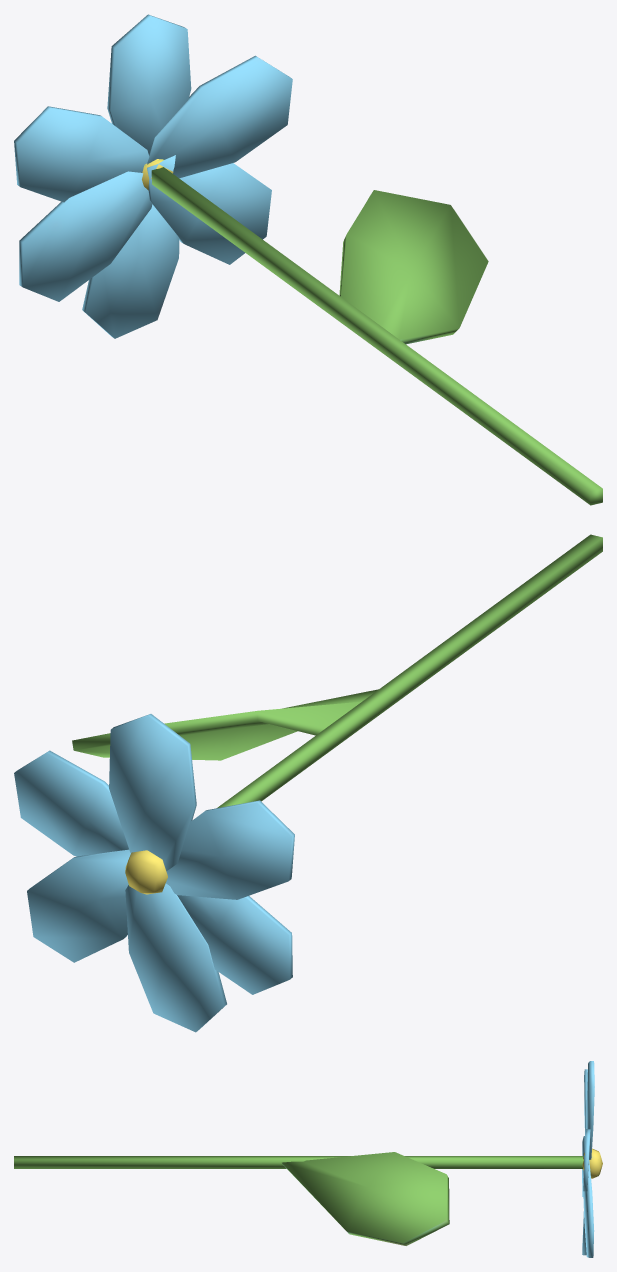
Rendered from flowerblue.fbx.
3 renders of one model, top to bottom at view 1: azimuth 30°, elevation 25°; view 2: azimuth 150°, elevation 25°; view 3: azimuth 270°, elevation 25°, orthographic. The views are drawn at different scales.
Parts seen in each view (by area): view 1: Cube; view 2: Cube; view 3: Cube.
Part boxes in pixels (box(x1,y1,x2,y2)): Cube: box(14, 14, 602, 505); Cube: box(14, 534, 602, 1032); Cube: box(14, 1061, 602, 1257).
Size of the model in its own units: 6.07 by 5.39 by 14.4.
